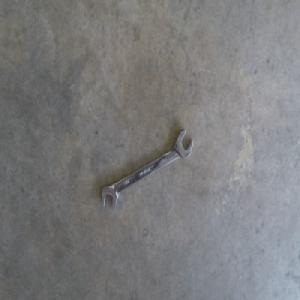Wrench: (102, 128, 194, 210)
